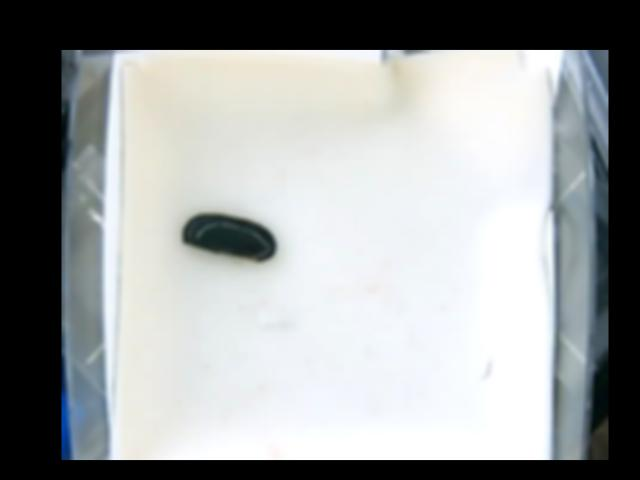Pebble: (180, 210, 276, 263)
